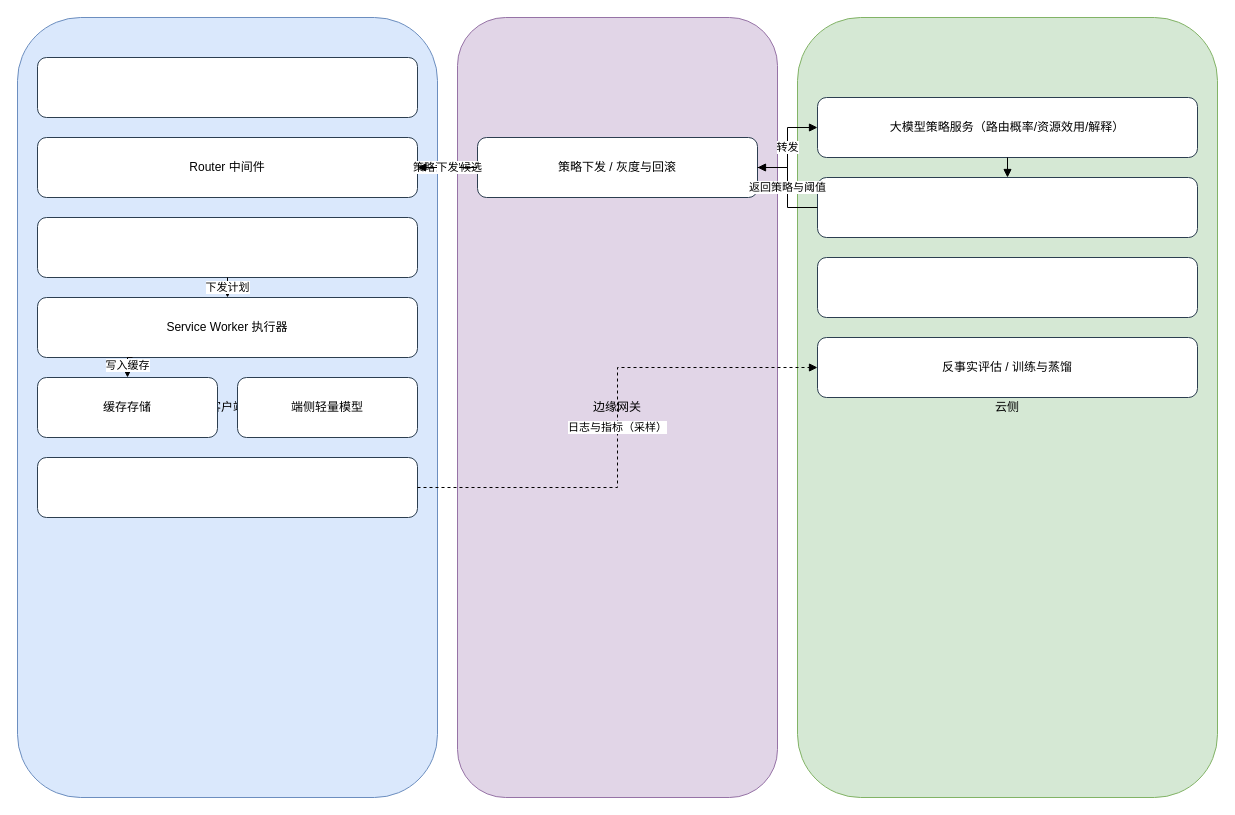
This 1235x815 diagram has some shape labels left out. The shapes that lost their labels are listed below. From the top down, each one's centre as x and y in pixels, then its label:
At point 227,87: "UI/页面".
At point 1007,207: "预算约束求解 / 阈值生成".
At point 227,247: "预取计划（等级/时序/TTL）".
At point 1007,287: "策略/版本/白名单".
At point 227,487: "埋点/画像采集".
